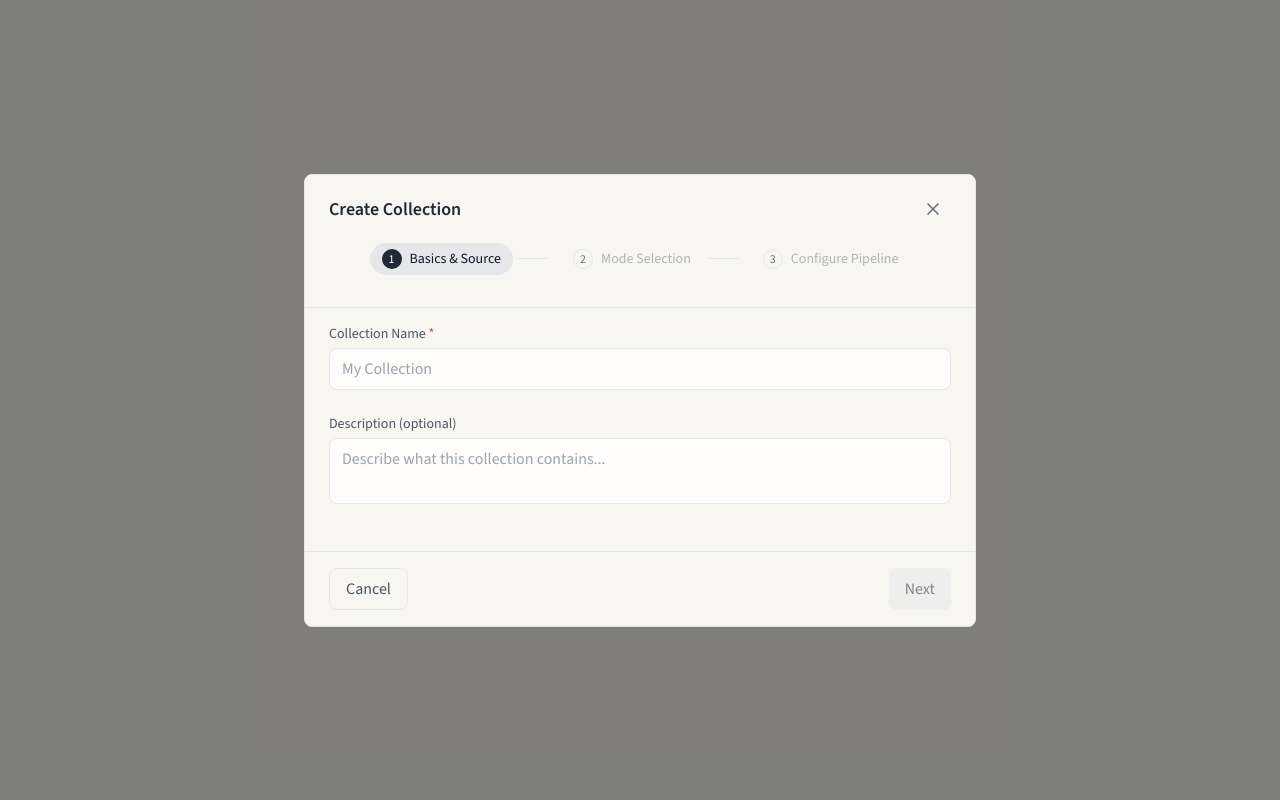
Wizard Keyboard Navigation › advances step with Cmd/Ctrl+Enter when valid
The width and height of the screenshot is (1280, 800).
// Fill in required field
Type "Test" into the field labelled "Collection Name *" at (640, 368), box x1=329 y1=348 x2=951 y2=390
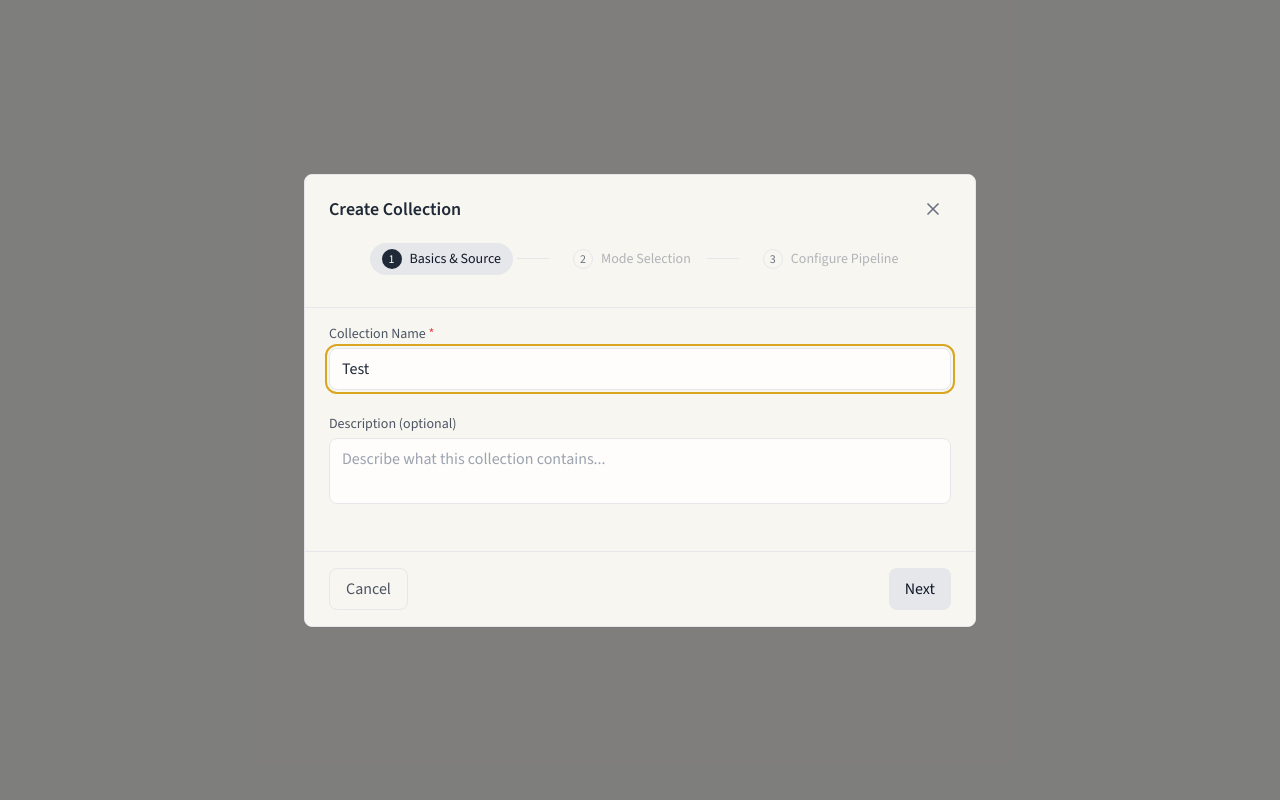
// Cmd+Enter to advance
Press Enter
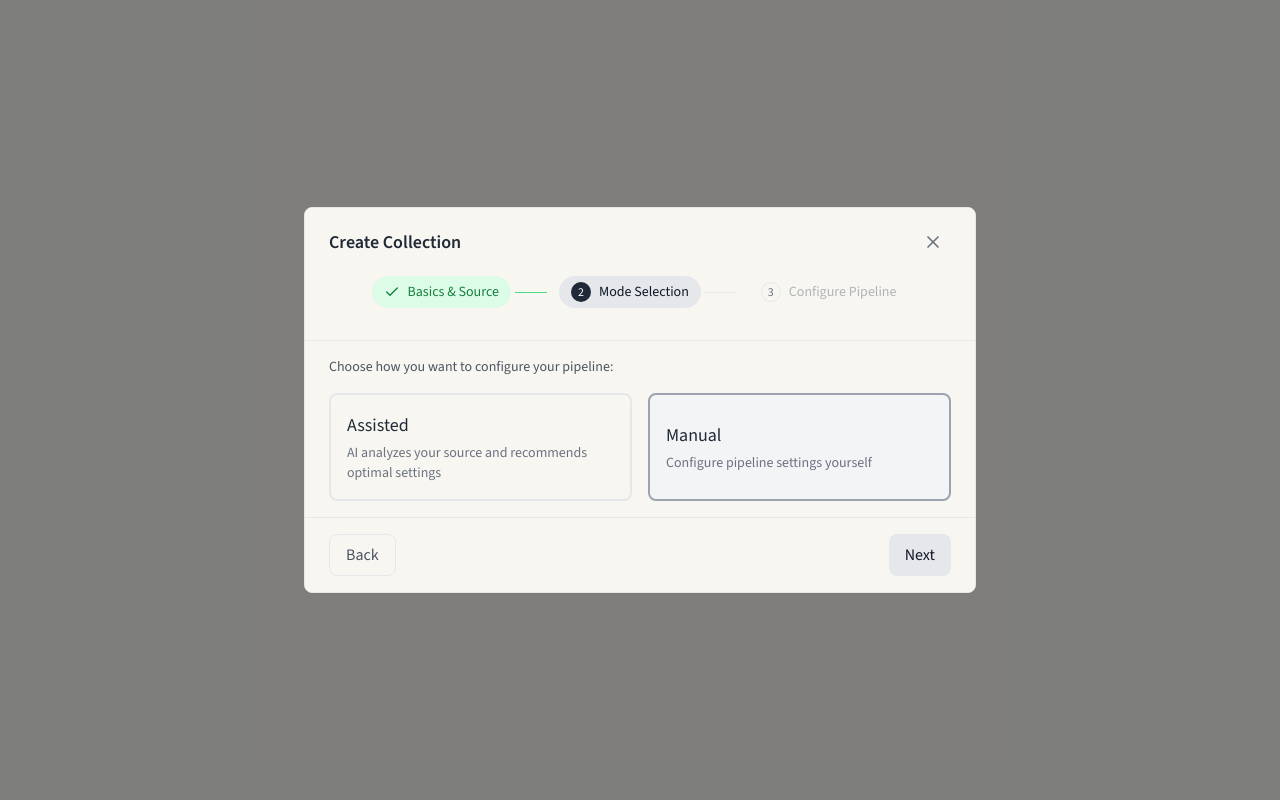
Now the text "Choose how you want to configure your pipeline:" is shown, box x1=329 y1=357 x2=613 y2=376
